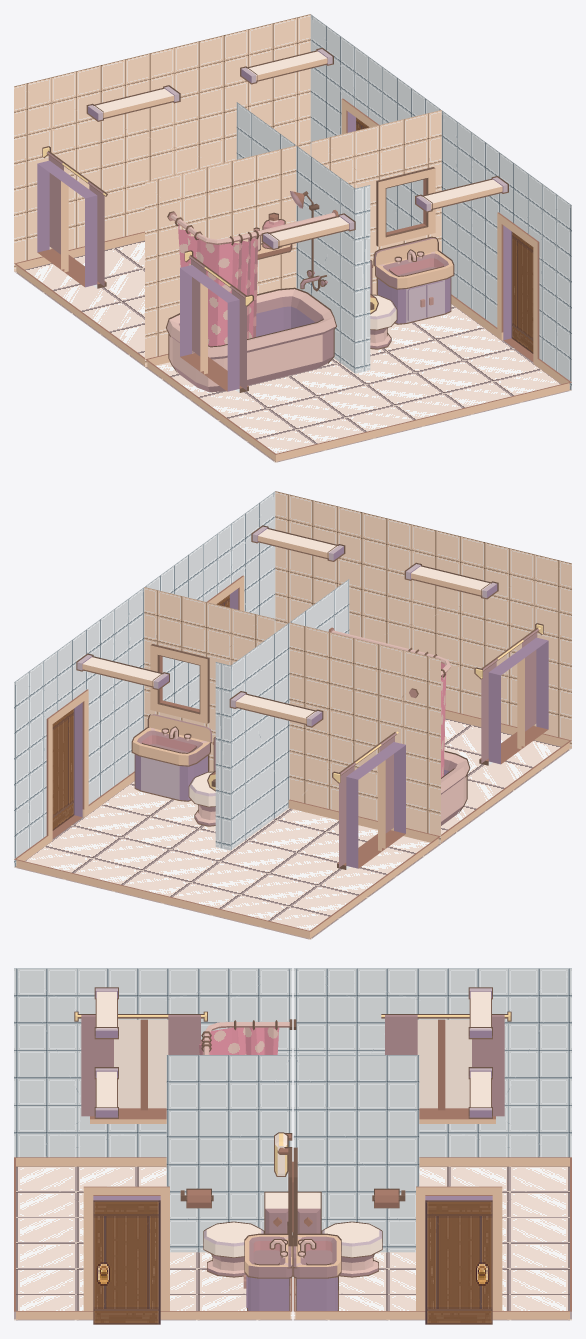
Rendered from Baño.glb.
3 views of the same model, one above another, from view 1: azimuth 30°, elevation 25°; view 2: azimuth 150°, elevation 25°; view 3: azimuth 270°, elevation 25° (orthographic). The views are drawn at different scales.
Visible parts, largest first — view 1: Bathroom; view 2: Bathroom; view 3: Bathroom.
Part boxes in pixels (x1,y1,x2,y2): Bathroom: (14, 14, 571, 462); Bathroom: (14, 491, 571, 939); Bathroom: (14, 968, 571, 1324).
Bounding box in the file's own units: 5.71 × 3.2 × 8.15.
Materials: 19 (17 with a texture image).
